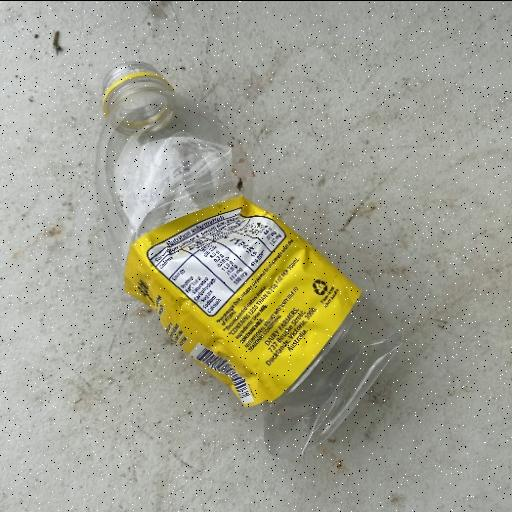Plastic: (92, 58, 404, 460)
